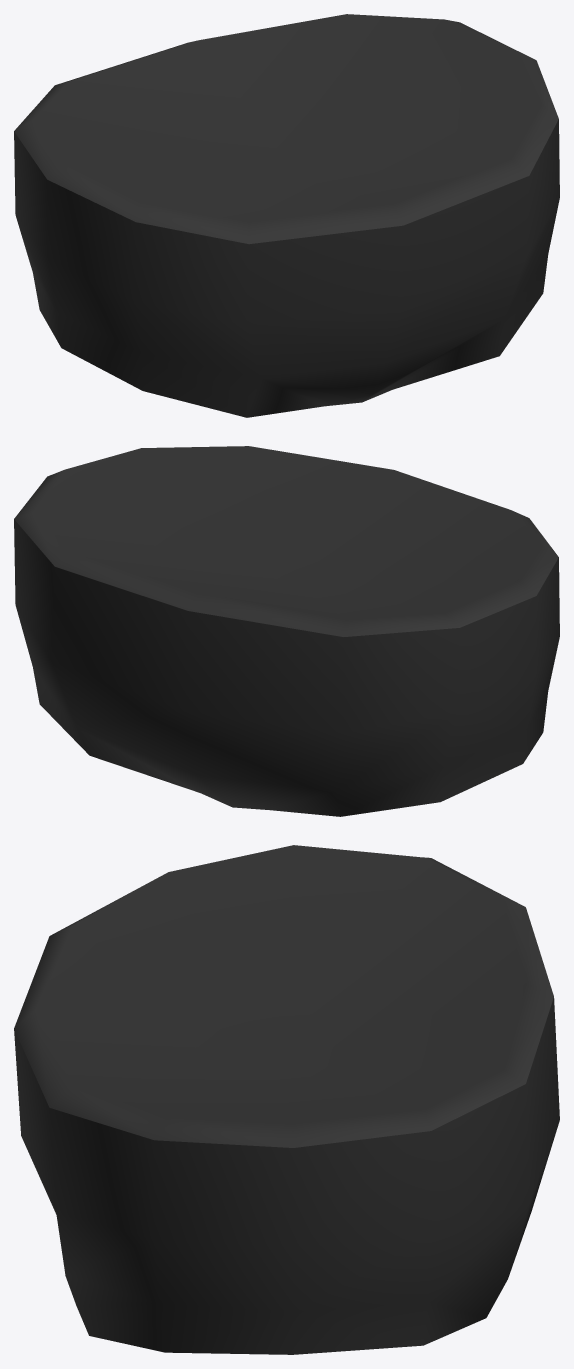
File: Legs_62.fbx
3 renders of one model, top to bottom at view 1: azimuth 30°, elevation 25°; view 2: azimuth 150°, elevation 25°; view 3: azimuth 270°, elevation 25°, orthographic. The views are drawn at different scales.
Visible parts, largest first — view 1: Legs_62; view 2: Legs_62; view 3: Legs_62.
Boxes of the visible parts, box(x1,y1,x2,y2) form: Legs_62: box(14, 14, 559, 417); Legs_62: box(14, 446, 559, 816); Legs_62: box(14, 845, 559, 1354).
Bounding box in the file's own units: 38.53 × 18.35 × 29.68.
